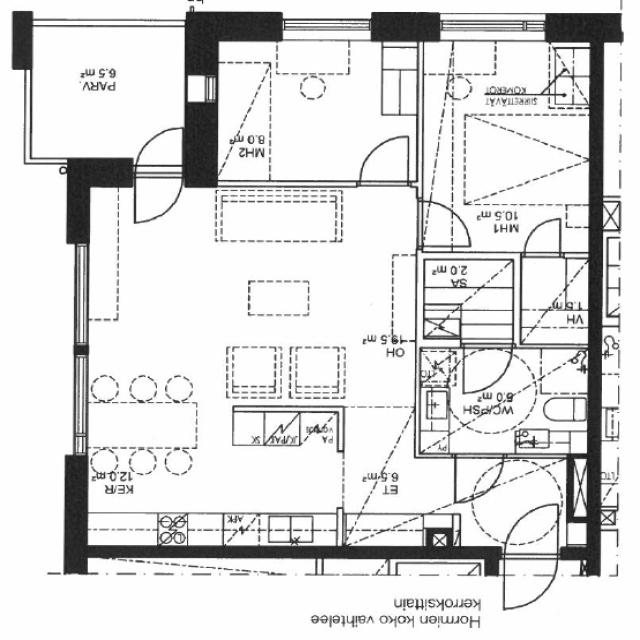door: (128, 168, 185, 228), (498, 558, 557, 614), (504, 502, 562, 556), (458, 342, 515, 395), (355, 134, 413, 186), (132, 122, 186, 174), (418, 199, 464, 248), (520, 216, 564, 258)
window: (64, 242, 95, 350), (436, 14, 550, 38), (67, 351, 93, 448), (278, 18, 376, 40), (197, 72, 220, 108)
zone: (212, 37, 417, 183), (27, 25, 189, 162), (426, 348, 593, 454), (475, 36, 576, 113), (517, 254, 592, 346)
